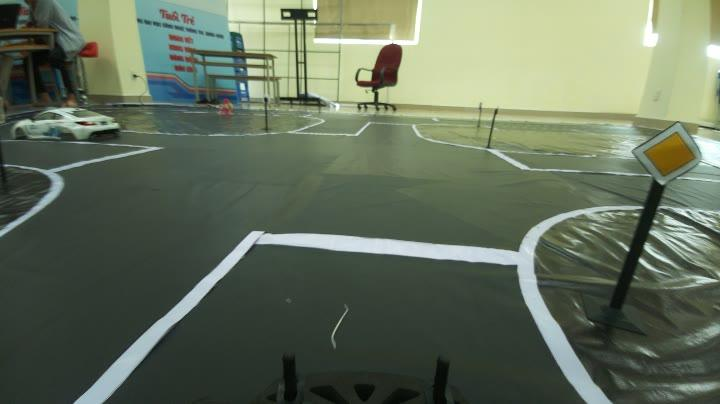priority: (625, 120, 709, 194)
